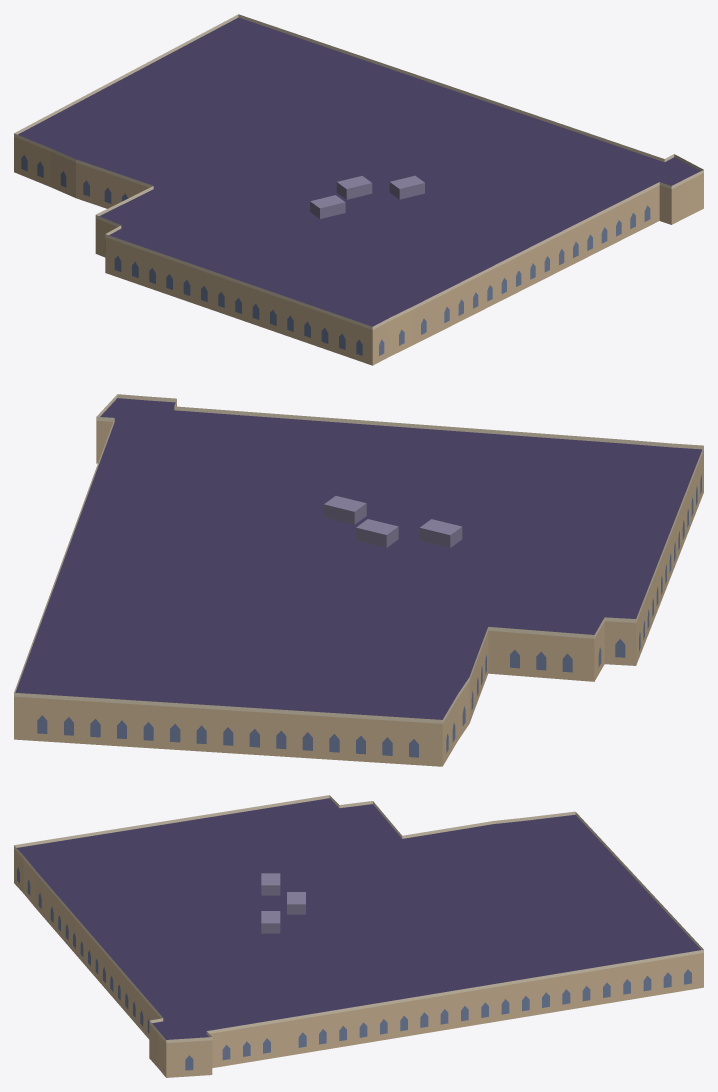
Rendered from b-058-day.glb.
3 views of the same model, one above another, from view 1: azimuth 30°, elevation 25°; view 2: azimuth 150°, elevation 25°; view 3: azimuth 270°, elevation 25° (orthographic). The views are drawn at different scales.
Visible parts, largest first — view 1: campus/b-058-day-0; view 2: campus/b-058-day-0; view 3: campus/b-058-day-0.
Boxes of the visible parts, <box> form: campus/b-058-day-0: <box>14,14,703,365</box>; campus/b-058-day-0: <box>14,394,703,766</box>; campus/b-058-day-0: <box>14,795,703,1077</box>.
Bounding box in the file's own units: 90.6 × 7.8 × 108.
